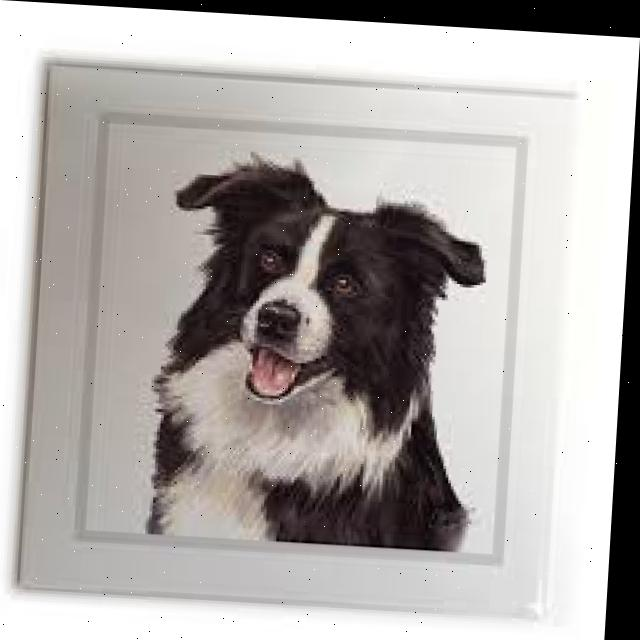ALASKAN_MALAMUTE: (137, 141, 512, 563)
